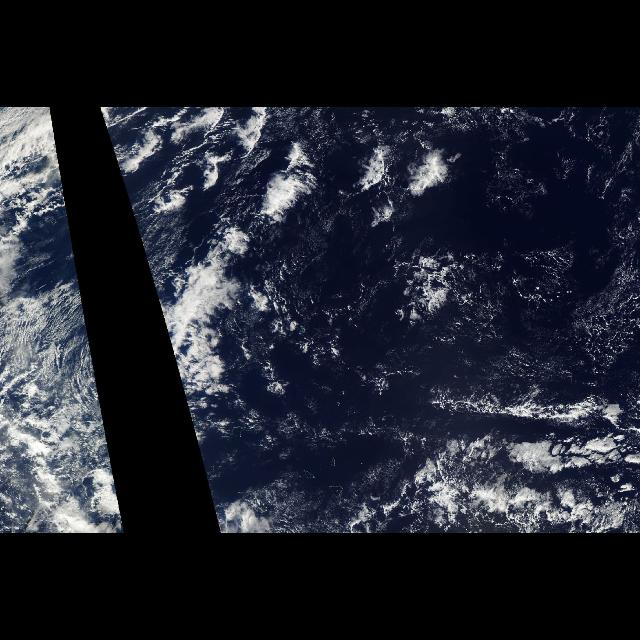Sugar: (466, 246, 640, 390)
